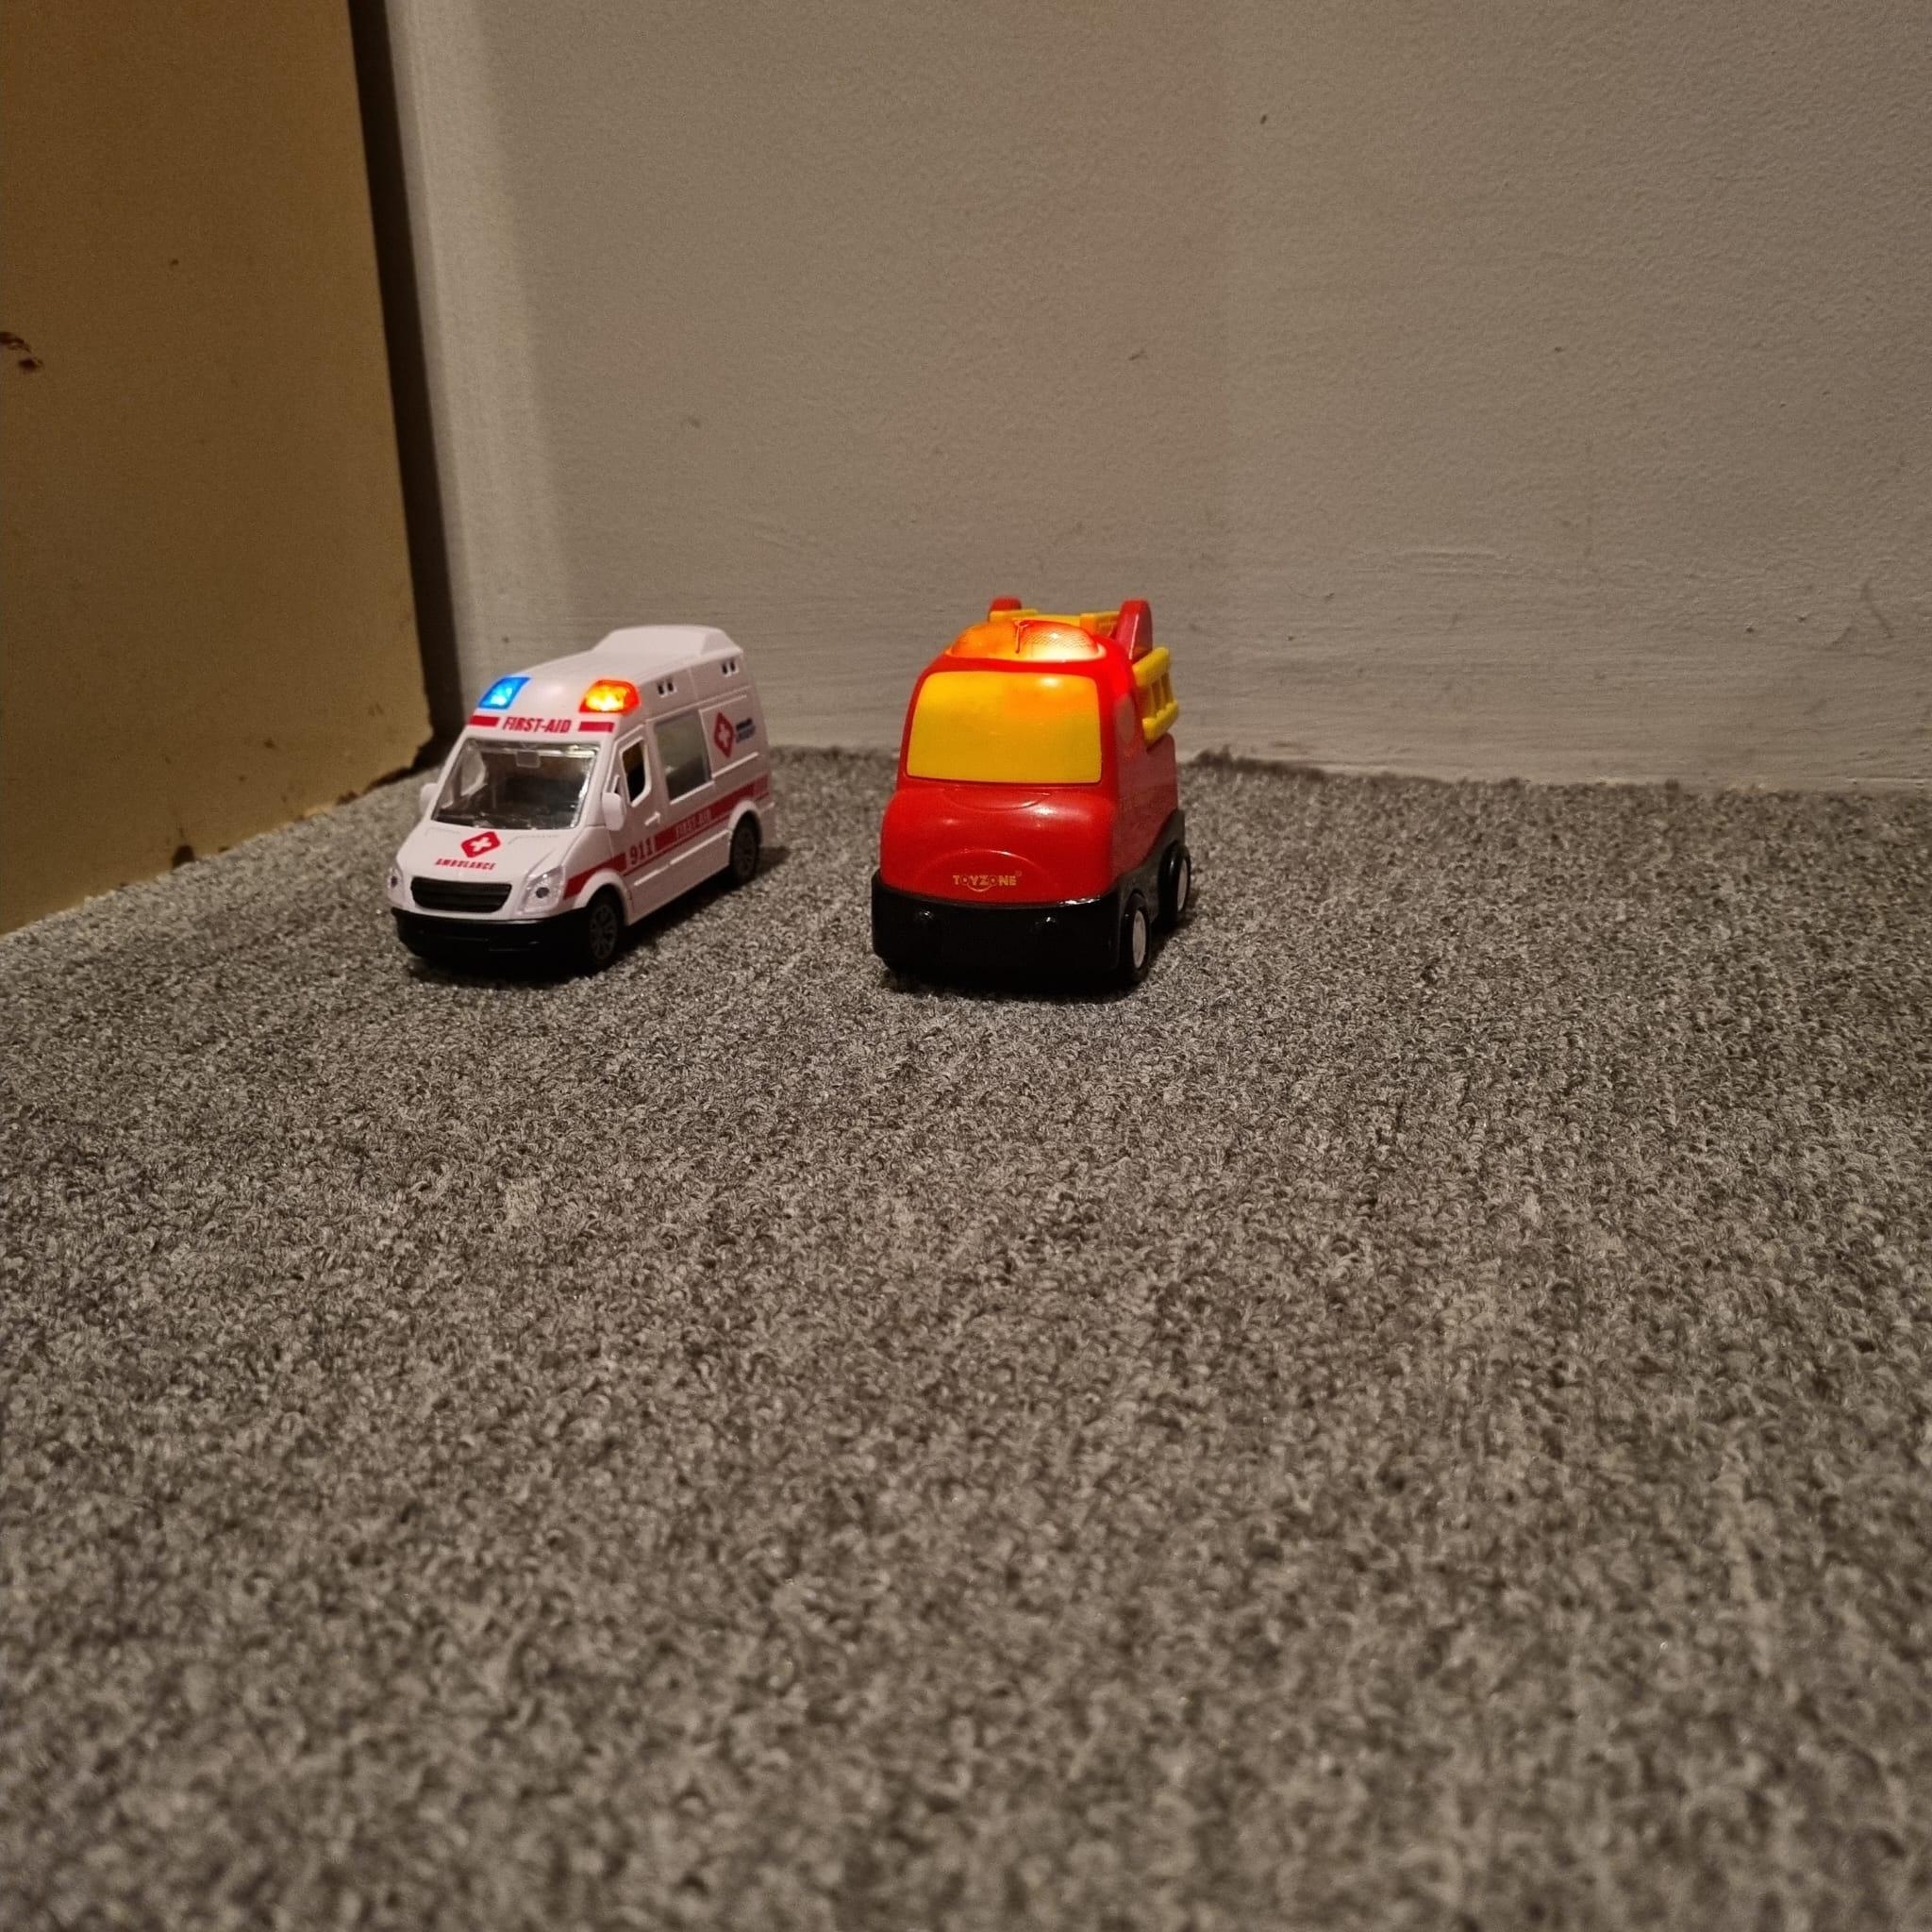ambulance_on: (385, 624, 777, 964)
firetruck_on: (872, 597, 1191, 981)
